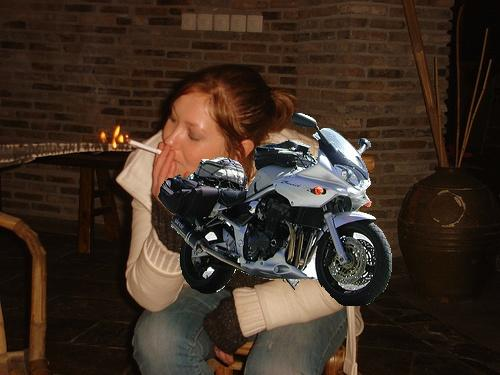tampered: (159, 114, 392, 306)
